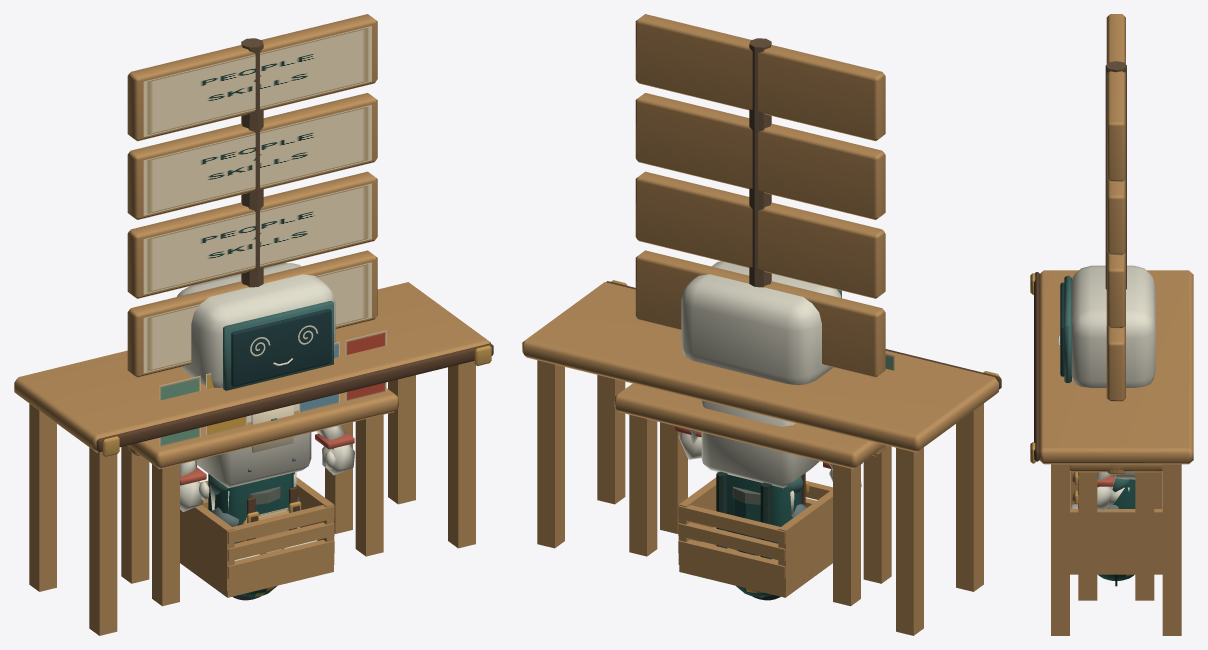
The model's file is props_kit.glb.
3 renders of one model, left to right at view 1: azimuth 30°, elevation 25°; view 2: azimuth 150°, elevation 25°; view 3: azimuth 270°, elevation 25°, orthographic. The views are drawn at different scales.
Visible parts, largest first — view 1: record_table_top, sign_words.002, sign_words.001, sign_words, first_aid_robot_head, card_stand_top, first_aid_robot_face_screen, atelier_table_edge, record_table_leg, sign_plank, sign_plank.001, sign_plank.002 (+22 smaller); view 2: record_table_top, sign_plank.002, sign_plank, sign_plank.001, first_aid_robot_head, sign_plank.003, card_stand_top, record_table_leg.001, record_table_leg.003, record_table_leg, first_aid_robot_torso, card_stand_leg.003 (+12 smaller); view 3: record_table_top, first_aid_robot_head, record_table_leg.003, crate_end.001, record_table_leg.002, sign_plank, card_stand_leg.002, card_stand_leg.003, sign_plank.003, sign_plank.002, sign_plank.001, atelier_table_edge (+8 smaller).
Part boxes in pixels (x1,y1,x2,y2): record_table_top: [14, 282, 490, 452]; sign_words.002: [143, 183, 371, 294]; sign_words.001: [143, 104, 371, 215]; sign_words: [143, 26, 371, 136]; first_aid_robot_head: [177, 263, 335, 387]; card_stand_top: [127, 388, 398, 469]; first_aid_robot_face_screen: [231, 309, 331, 386]; atelier_table_edge: [96, 343, 493, 452]; record_table_leg: [89, 447, 117, 635]; sign_plank: [127, 14, 377, 141]; sign_plank.001: [127, 93, 377, 219]; sign_plank.002: [127, 171, 377, 298]; record_table_top: [522, 282, 998, 452]; sign_plank.002: [635, 171, 885, 298]; sign_plank: [635, 14, 885, 141]; sign_plank.001: [635, 93, 885, 219]; first_aid_robot_head: [681, 261, 841, 385]; sign_plank.003: [635, 250, 885, 377]; card_stand_top: [614, 383, 885, 469]; record_table_leg.001: [896, 447, 923, 635]; record_table_leg.003: [537, 360, 564, 548]; record_table_leg: [956, 403, 983, 591]; first_aid_robot_torso: [701, 400, 819, 488]; card_stand_leg.003: [629, 414, 657, 556]; record_table_top: [1039, 270, 1193, 464]; first_aid_robot_head: [1071, 265, 1155, 387]; record_table_leg.003: [1162, 464, 1181, 635]; crate_end.001: [1070, 509, 1162, 568]; record_table_leg.002: [1051, 464, 1069, 635]; sign_plank: [1106, 14, 1125, 181]; card_stand_leg.002: [1078, 472, 1097, 600]; card_stand_leg.003: [1135, 472, 1154, 600]; sign_plank.003: [1106, 325, 1125, 401]; sign_plank.002: [1106, 252, 1125, 328]; sign_plank.001: [1106, 179, 1125, 255]; atelier_table_edge: [1034, 272, 1040, 461].
Size of the model in its own units: 1.8 by 2.4 by 0.6865.
15 materials, 1 textured.
